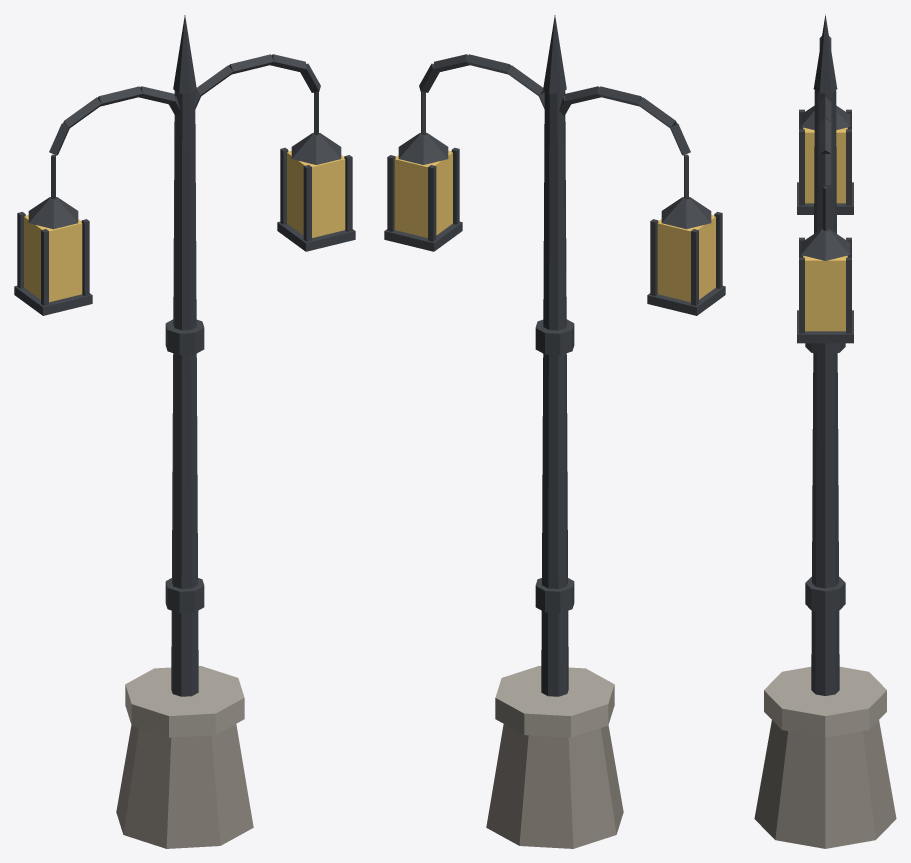
Rendered from lantern_iron.glb.
3 views of the same model, side by side, from view 1: azimuth 30°, elevation 25°; view 2: azimuth 150°, elevation 25°; view 3: azimuth 270°, elevation 25° (orthographic).
Visible parts, largest first — view 1: road_lantern_iron; view 2: road_lantern_iron; view 3: road_lantern_iron.
Boxes of the visible parts, left/top/right/bottom form: road_lantern_iron: left=14, top=15, right=355, bottom=848; road_lantern_iron: left=384, top=15, right=725, bottom=848; road_lantern_iron: left=754, top=14, right=896, bottom=848.
Bounding box in the file's own units: 1.52 × 3.75 × 0.6.
